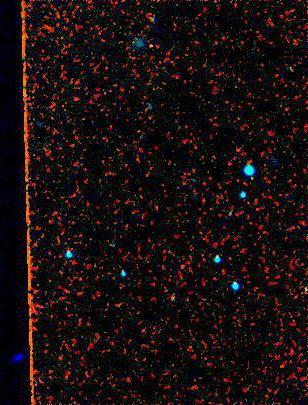star: (142, 30, 172, 60)
